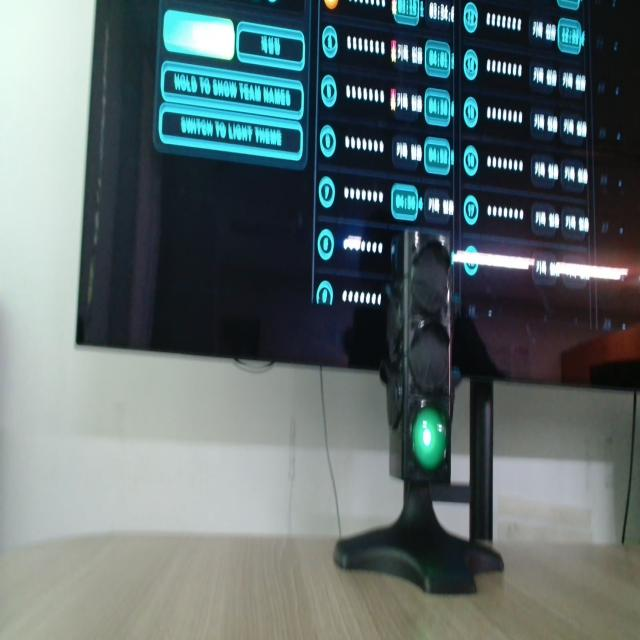green_light: (412, 408, 447, 471)
